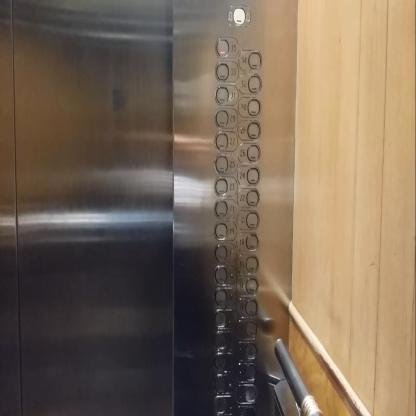11: (235, 295, 259, 317)
14: (236, 273, 260, 296)
15: (236, 251, 260, 274)
18: (235, 230, 260, 252)
19: (213, 218, 238, 242)
21: (213, 196, 238, 221)
22: (236, 186, 260, 208)
23: (213, 174, 237, 198)
24: (236, 162, 260, 186)
25: (213, 152, 238, 175)
26: (237, 140, 261, 164)
27: (214, 129, 238, 152)
28: (237, 117, 261, 141)
29: (213, 106, 239, 130)
30: (237, 94, 262, 118)
31: (214, 82, 239, 107)
32: (238, 71, 262, 95)
33: (214, 58, 239, 83)
34: (238, 47, 262, 72)
35: (214, 34, 240, 59)
alarm: (226, 3, 252, 29)
blur: (236, 208, 260, 231)
empty: (212, 369, 235, 394), (235, 338, 258, 361), (235, 380, 257, 404), (236, 317, 258, 339), (214, 307, 236, 329), (213, 241, 236, 262), (214, 263, 236, 284), (214, 285, 235, 307), (212, 394, 234, 415), (214, 350, 236, 370), (214, 330, 235, 350), (236, 361, 256, 381)
